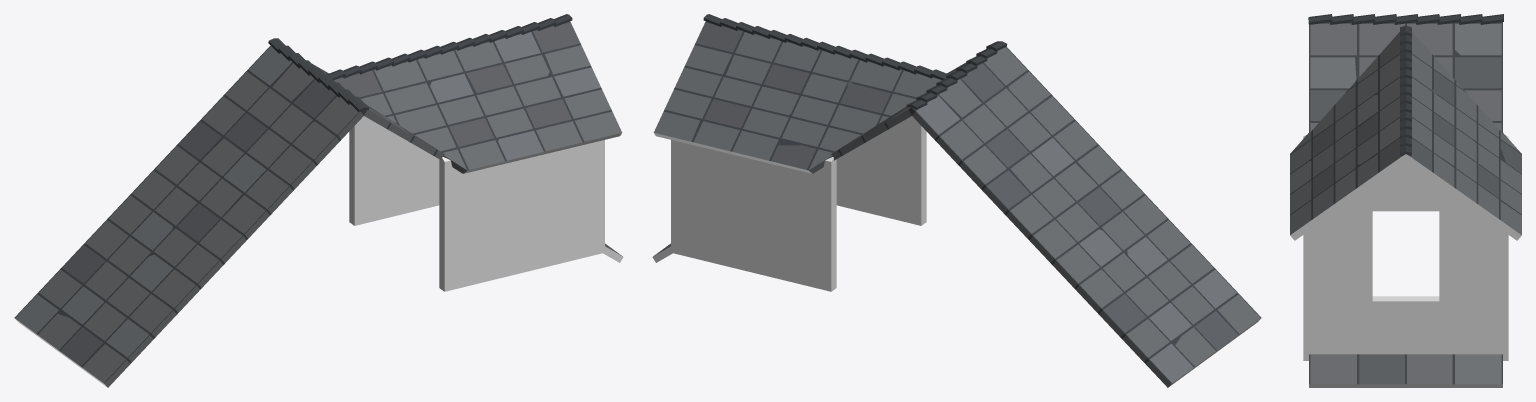
File: Roof2_C8_04.fbx
3 renders of one model, left to right at view 1: azimuth 30°, elevation 25°; view 2: azimuth 150°, elevation 25°; view 3: azimuth 270°, elevation 25°, orthographic. The views are drawn at different scales.
Visible parts, largest first — view 1: Roof2_C8_04; view 2: Roof2_C8_04; view 3: Roof2_C8_04.
Part boxes in pixels (box(x1,y1,x2,y2)): Roof2_C8_04: box(14, 14, 623, 387); Roof2_C8_04: box(652, 14, 1261, 387); Roof2_C8_04: box(1290, 14, 1521, 387).
Bounding box in the file's own units: 833 × 339 × 299.
